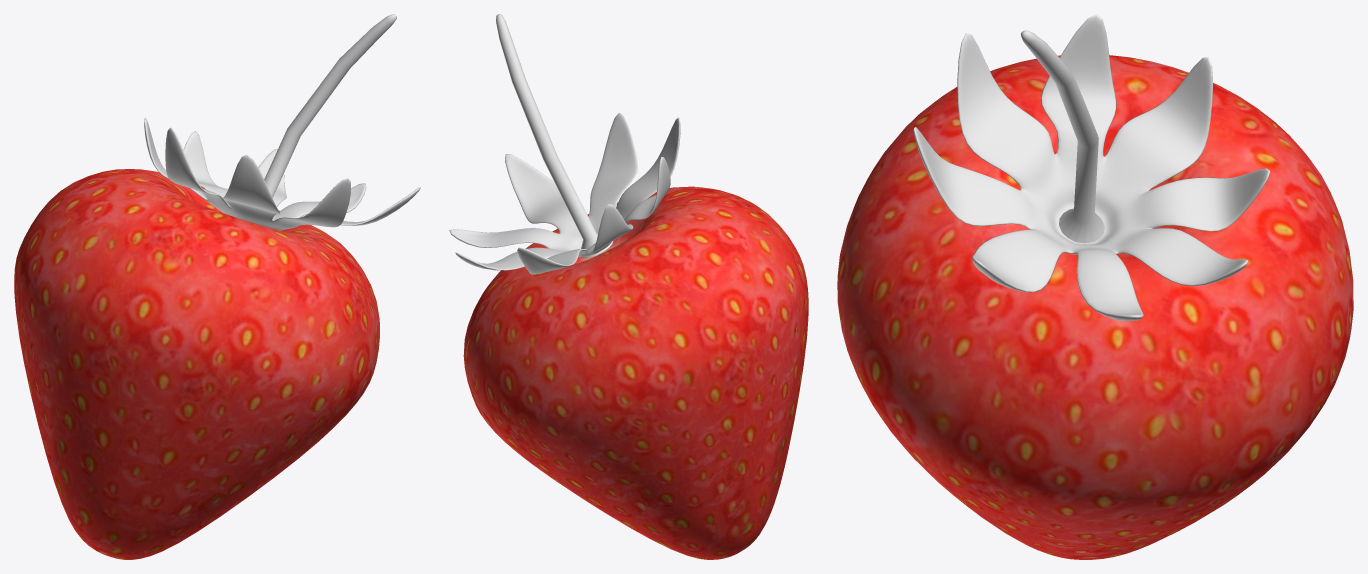
File: staw.fbx
The picture shows the model from 3 angles, left to right: view 1: azimuth 30°, elevation 25°; view 2: azimuth 150°, elevation 25°; view 3: azimuth 270°, elevation 25°; orthographic projection. The views are drawn at different scales.
Visible parts, largest first — view 1: strawberry.003; view 2: strawberry.003; view 3: strawberry.003.
Boxes of the visible parts, x1,y1,x2,y2 form: strawberry.003: (14,14,420,559); strawberry.003: (449,14,808,559); strawberry.003: (837,14,1353,559).
Size of the model in its own units: 463 by 646 by 443.
